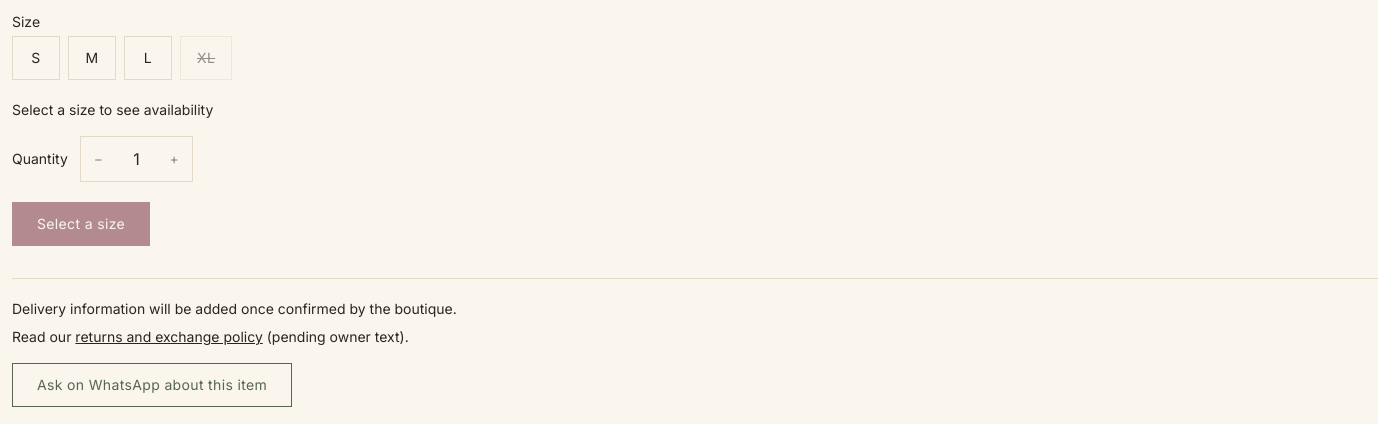
Test: variant selection › cannot add until a size is selected; sold-out size is disabled
Expected: the button "Select a size" is disabled, [12,202,150,246]
Expected: the button "XL" is disabled, [180,36,232,80]
Click the button "S" at coordinates (36, 58), box [12,36,60,80]
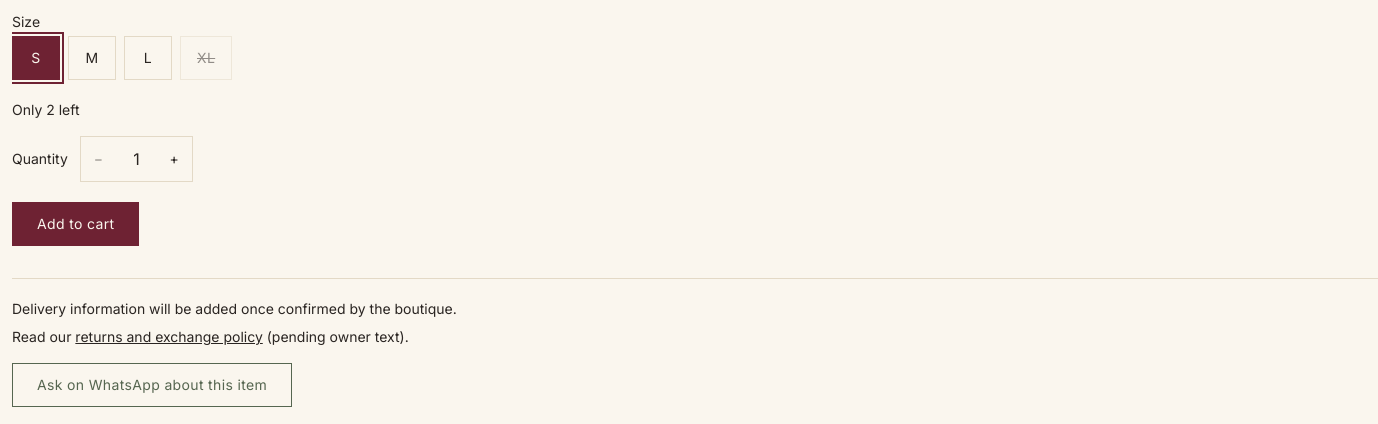
Now the button "Add to cart" is enabled, box [12,202,139,246]
